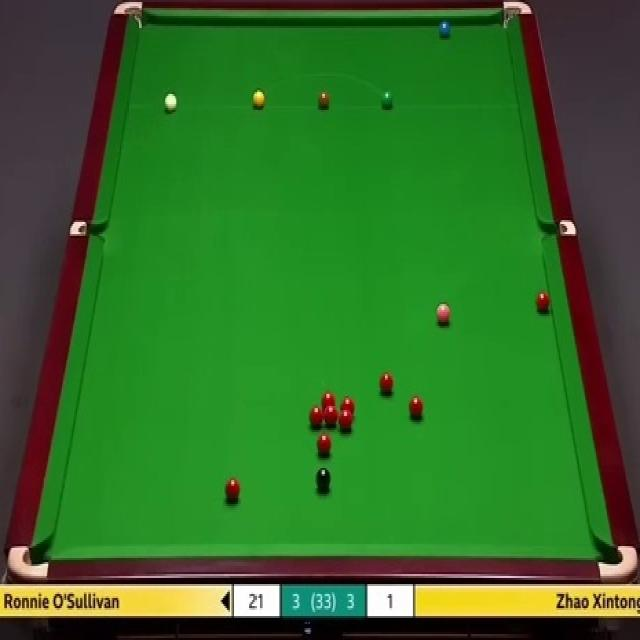pocket: (597, 540, 639, 582), (6, 544, 49, 578), (110, 0, 144, 32), (502, 1, 531, 32), (541, 218, 576, 237), (68, 218, 102, 237)
